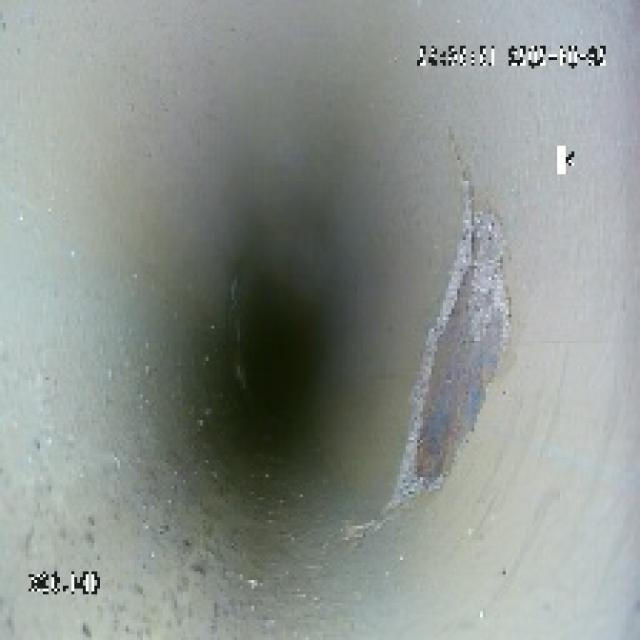pipe_surface_damage: (397, 151, 514, 540)
